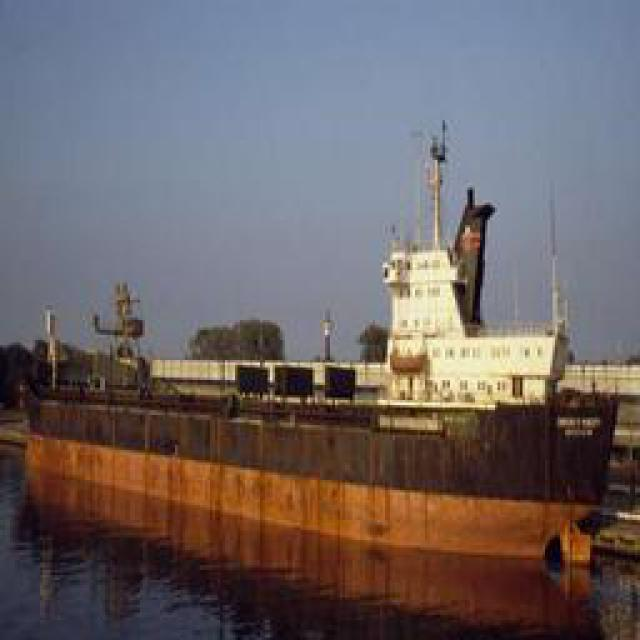Ship: (24, 122, 621, 568)
